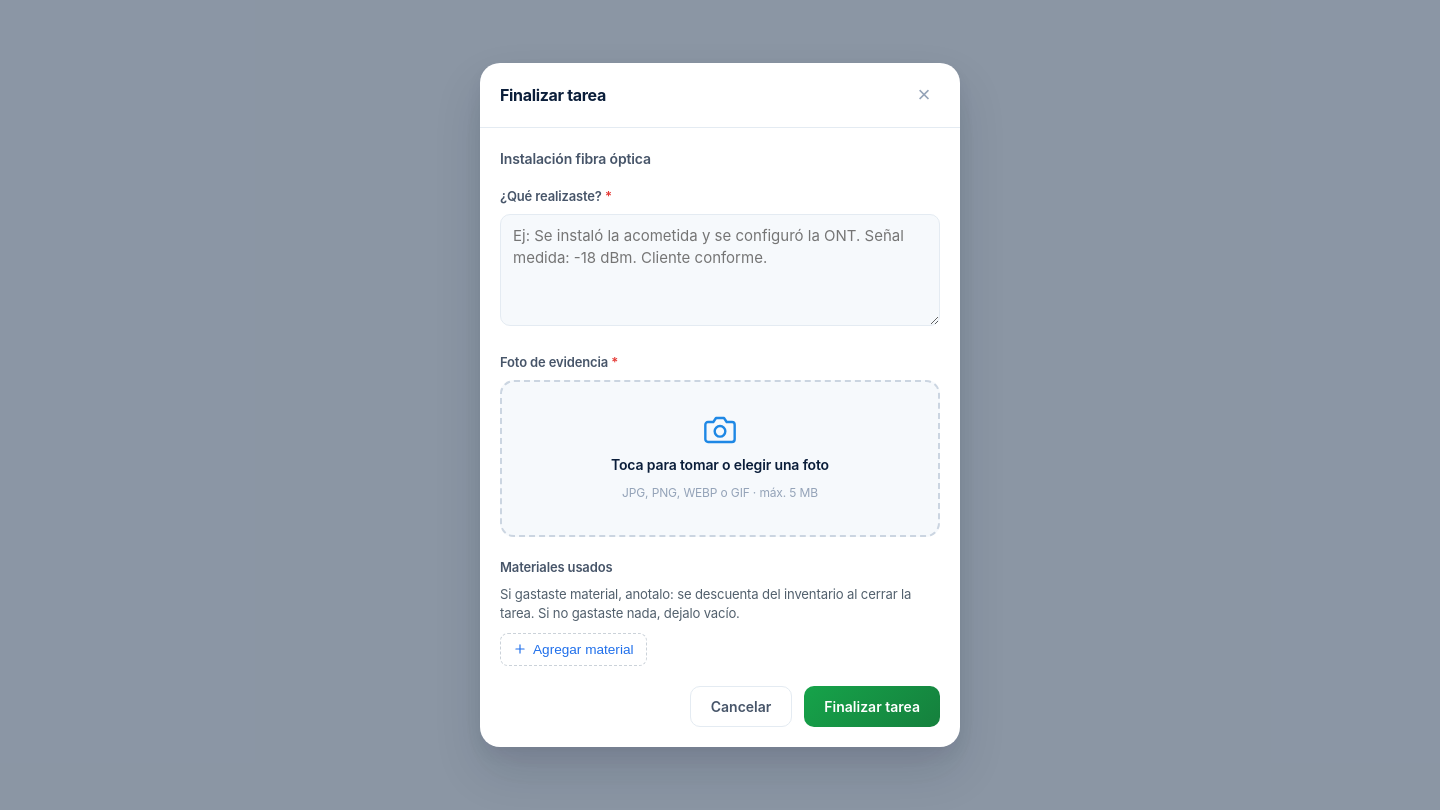
Scenario: ModalFinalizarTarea › no envía nada si falta la descripción y la foto
The width and height of the screenshot is (1440, 810).
Click the button "Finalizar tarea": (872, 706) 804,686 -> 940,727
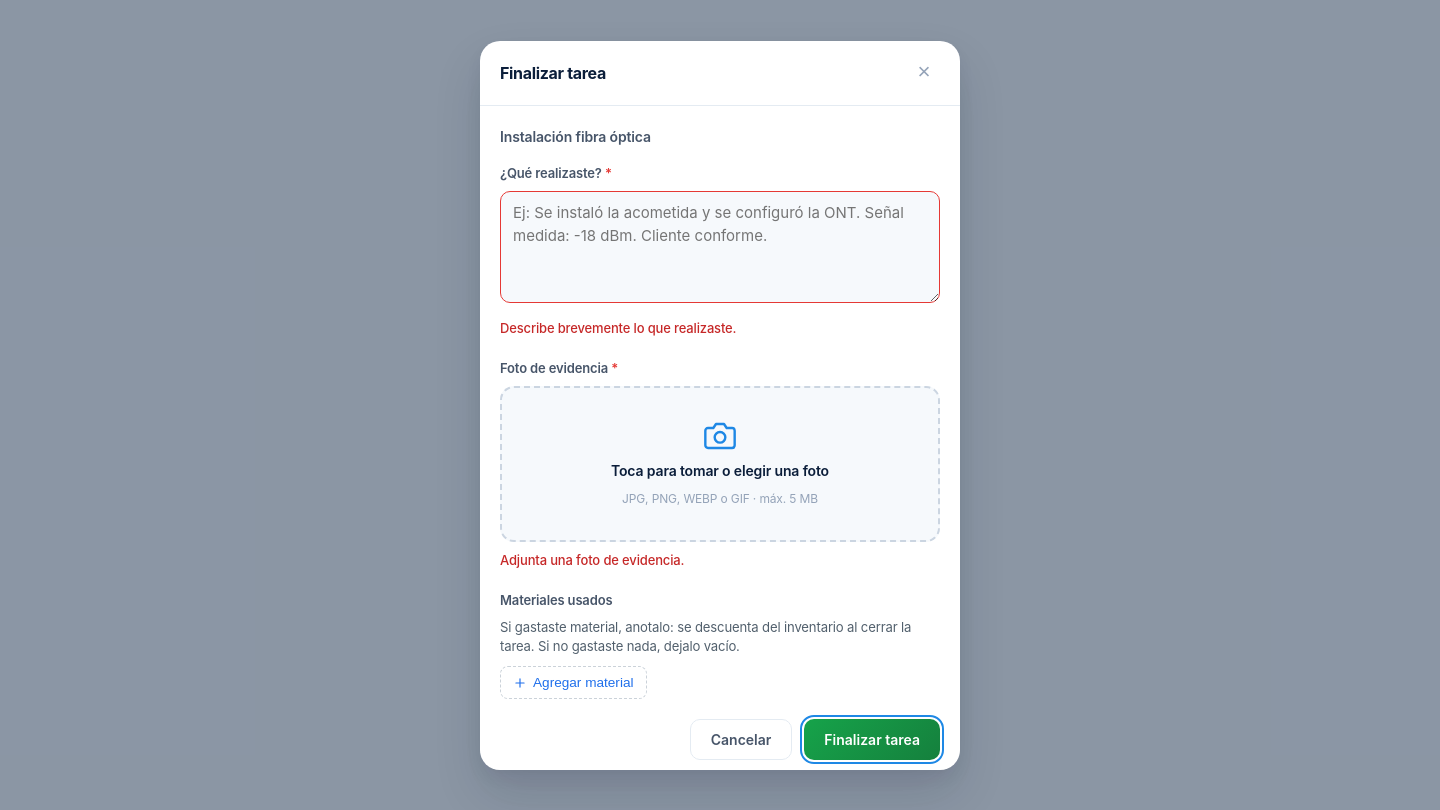
Check: the text "Describe brevemente lo que realizaste." is shown, box 500,320 -> 736,336
Check: the text "Adjunta una foto de evidencia." is shown, box 500,552 -> 684,568
